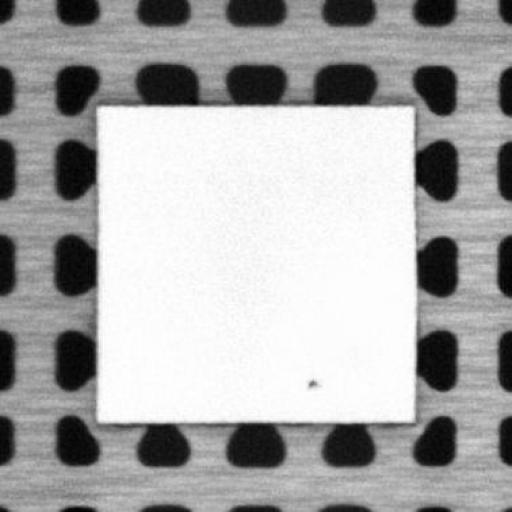DIE_INK: (304, 374, 320, 390)
